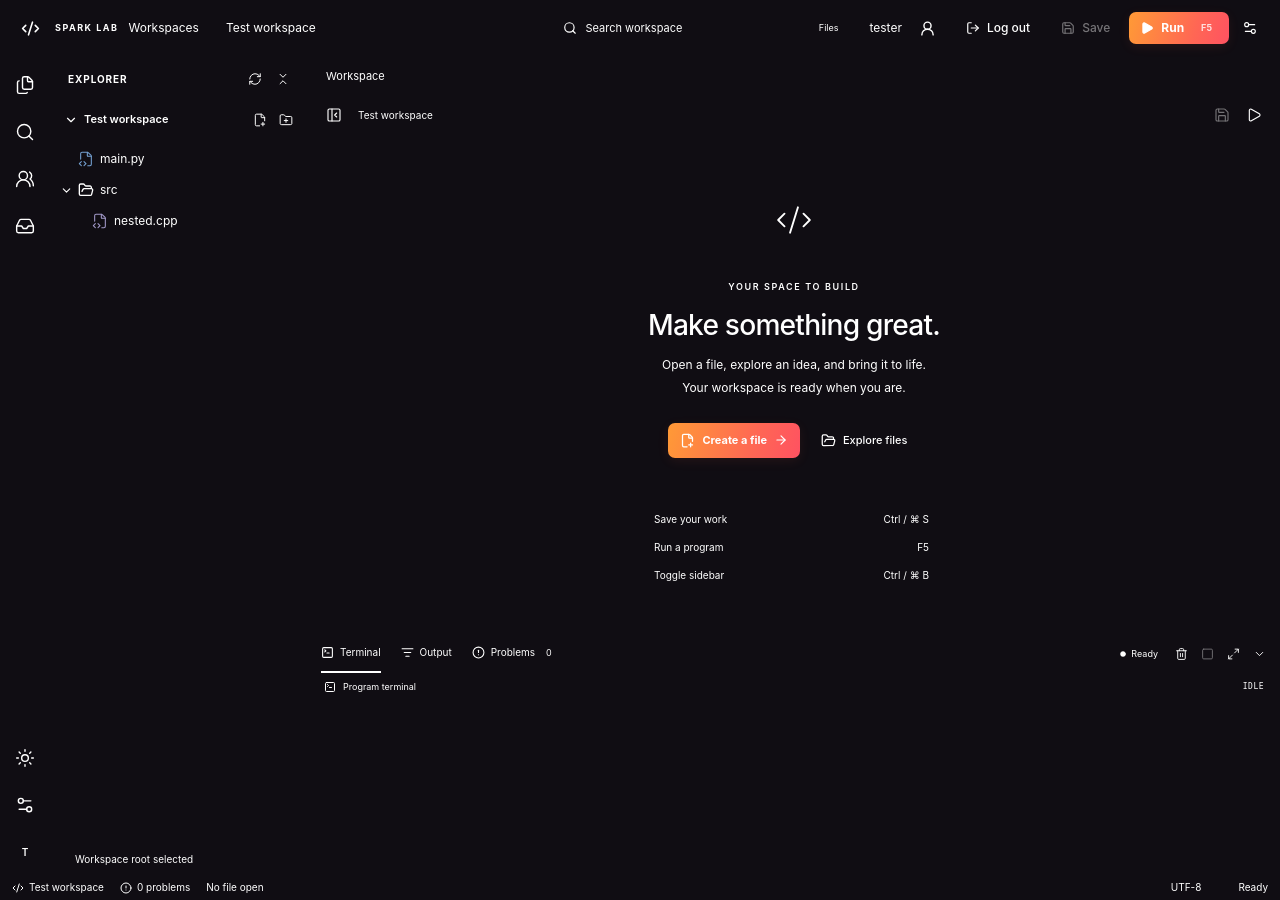
Scenario: file and folder operations › shows creation validation errors for New File and preserves dialog input
Expected: the button with aria-label "Select workspace root" is shown, [61,111,248,128]
Click the button named "New File" at x=260, y=120, box [248,108,271,132]
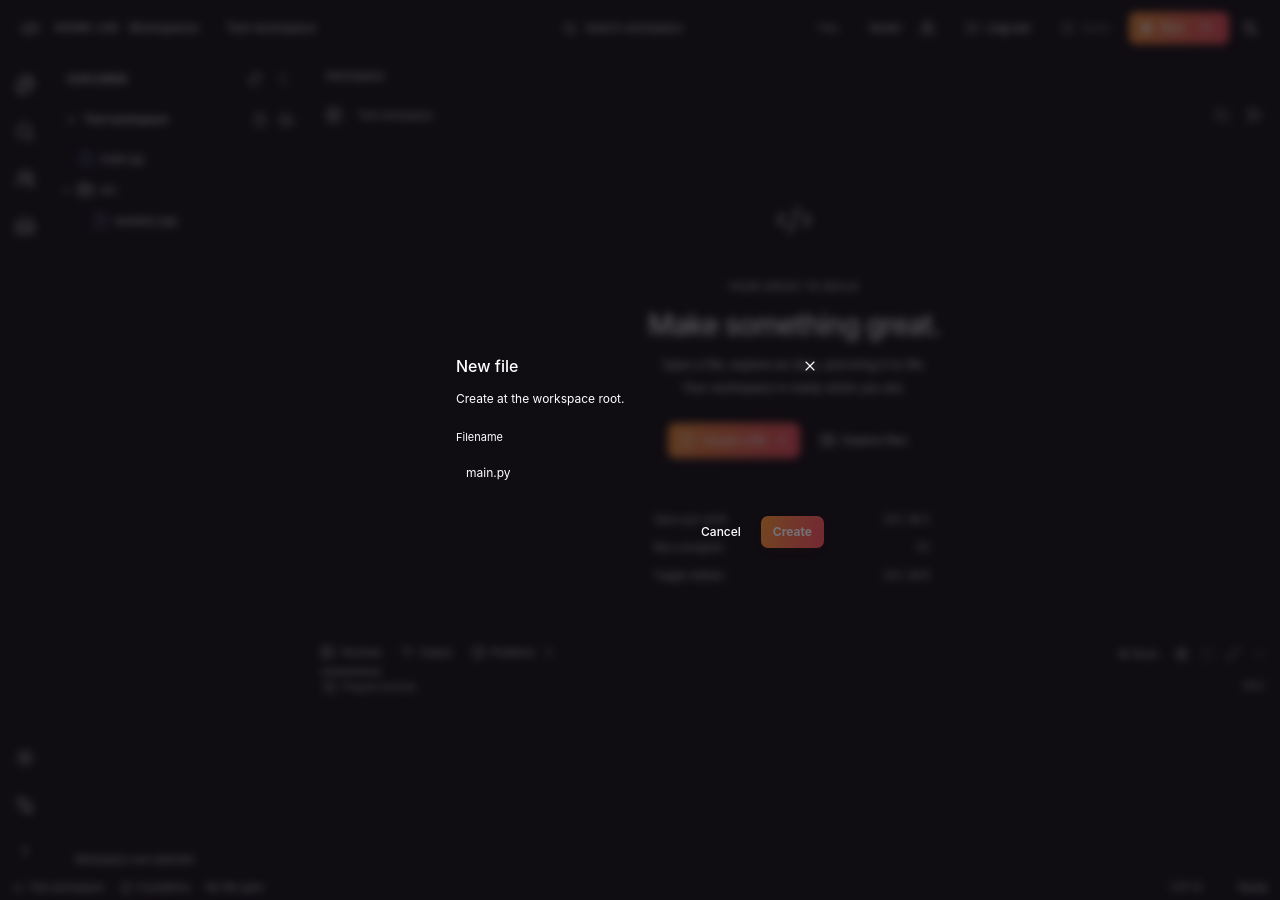
Type "duplicate" into the field at x=640, y=473, box [456,454,824,492]
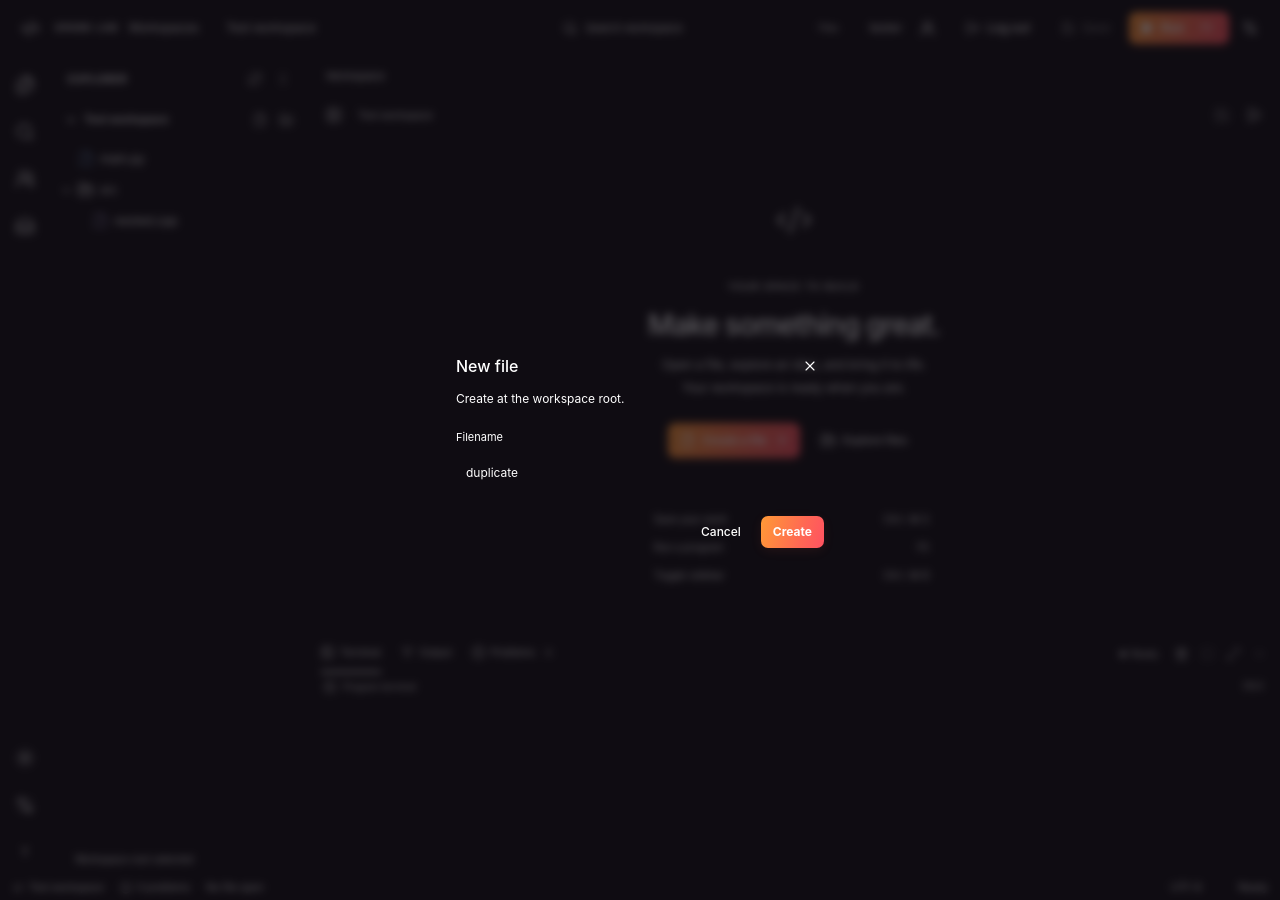
Click the button "Create" at x=792, y=532, box [761,516,824,548]
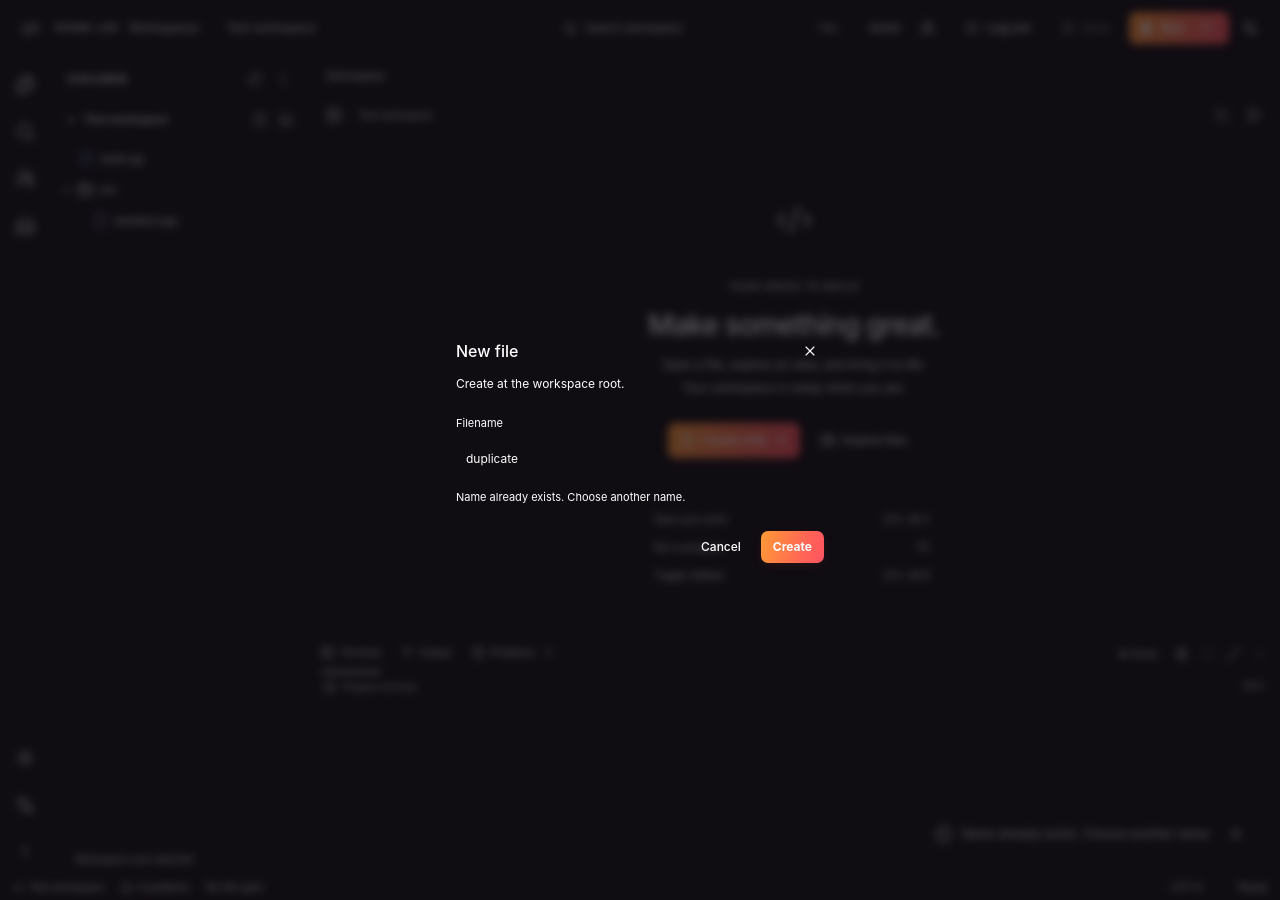
Result: the message "Name already exists. Choose another name." below "Filename" is shown at [456,490,685,504]
